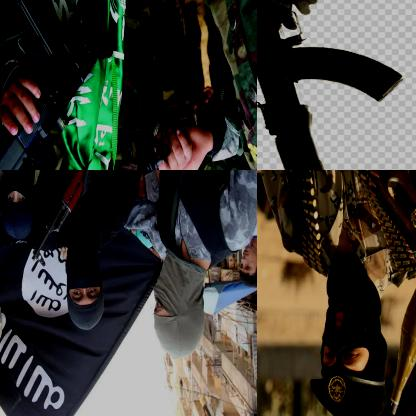rifle: (257, 0, 408, 169), (0, 0, 111, 169), (257, 170, 415, 279), (27, 170, 145, 273)
